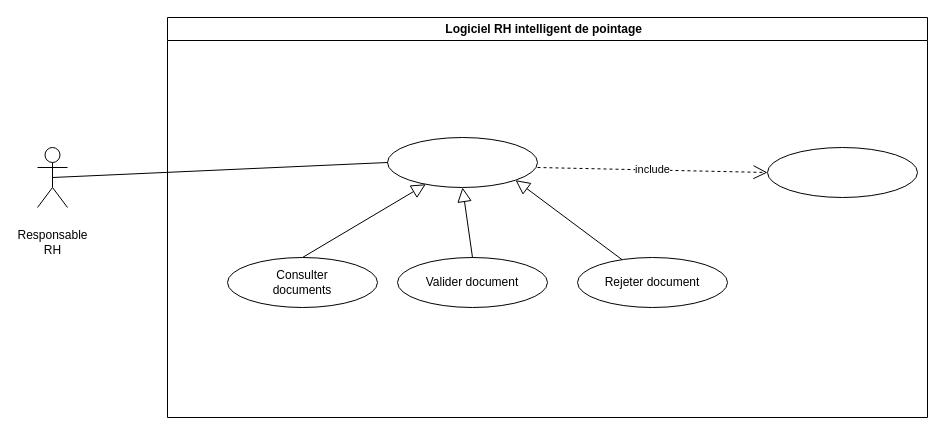
The diagram is 945 pixels wide and 435 high, and some of its shapes have lost their labels. Each missing label, with the box of its shape:
Gérer document: (386, 136, 538, 188)
S'authentifier: (766, 146, 918, 198)
